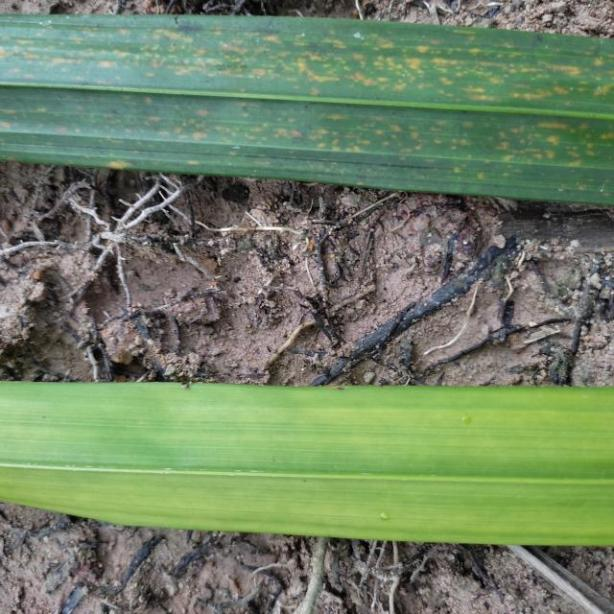nitrogen: (0, 7, 614, 210), (3, 373, 614, 548)
